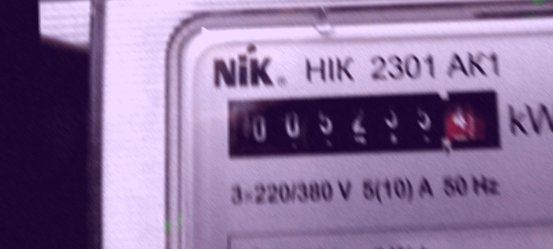0: (280, 106, 301, 140), (249, 111, 267, 143)
2: (346, 102, 368, 136)
3: (378, 99, 403, 132)
4: (447, 97, 470, 134)
5: (412, 97, 435, 133), (314, 104, 334, 137)
screen: (209, 76, 513, 171)
